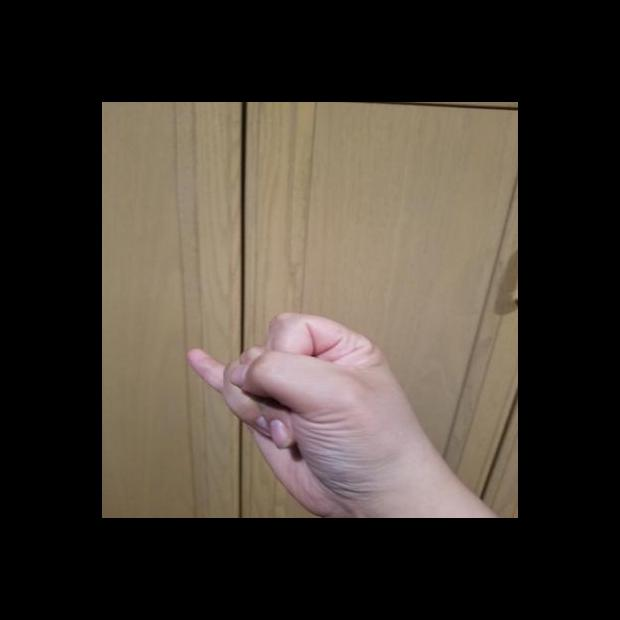I: (182, 307, 440, 517)
